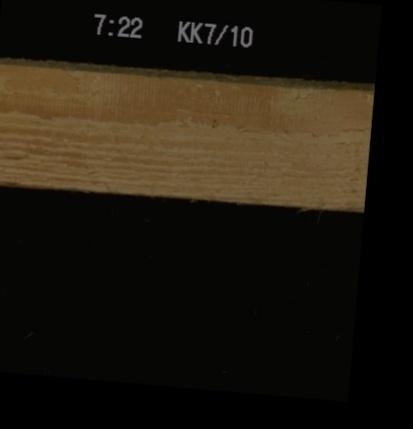split: (166, 101, 278, 116)
